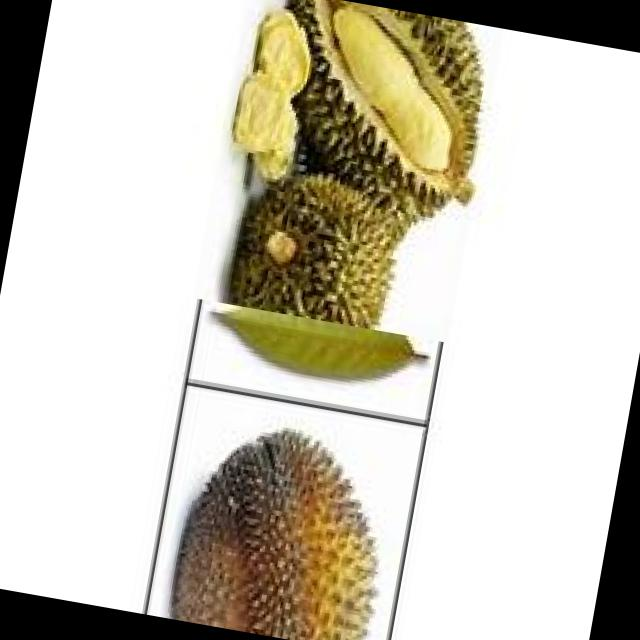fruit: (158, 410, 416, 640), (212, 138, 432, 338)
